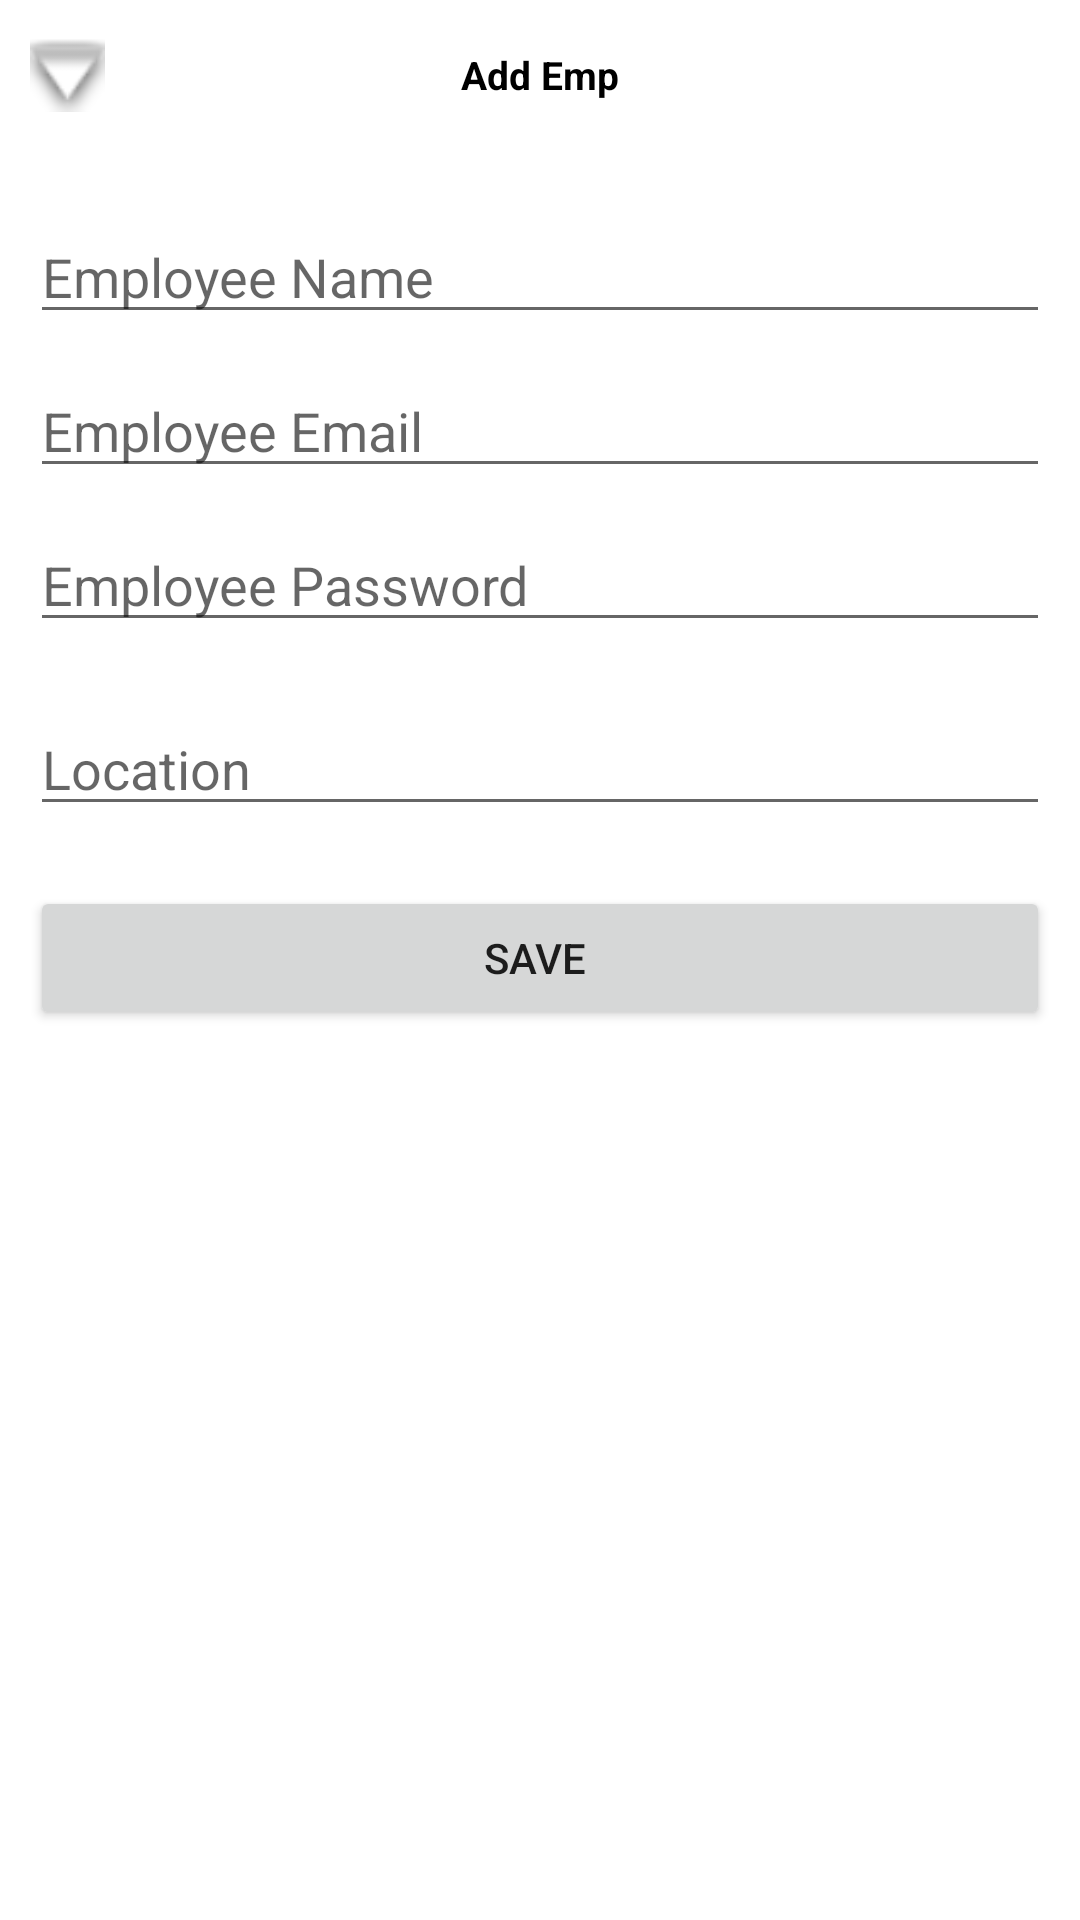

Icons on this 1080 x 1920 Android screen, each with the point to tap as (x,y):
arrow down float: (67,75)
